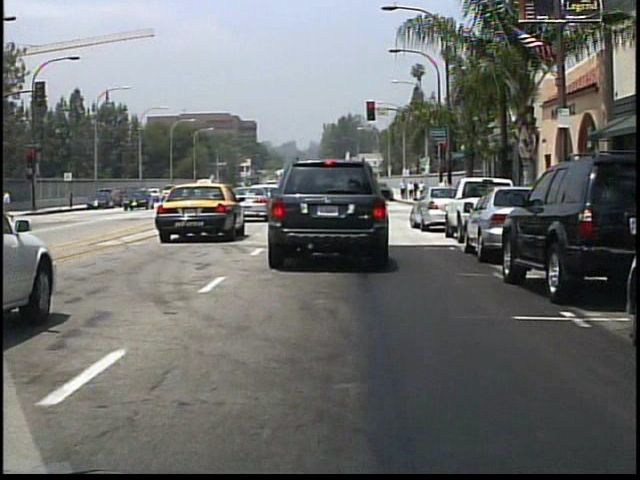person: (437, 177, 456, 213), (4, 188, 21, 222), (408, 180, 417, 202), (400, 179, 408, 200), (419, 181, 427, 200)
